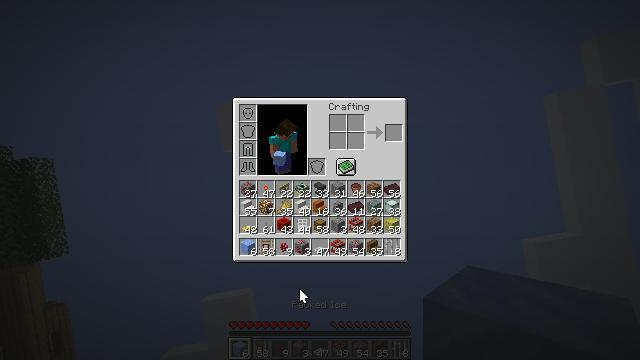cursor: (299, 288, 309, 304)
